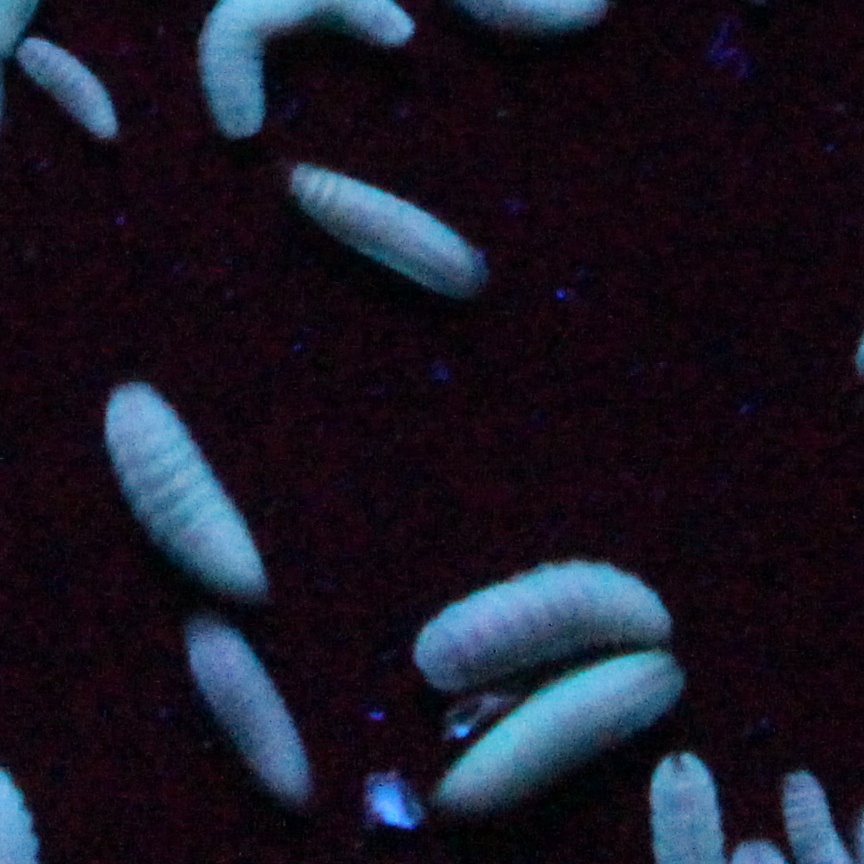larve: (445, 651, 689, 803), (99, 381, 264, 595), (414, 559, 679, 690), (290, 161, 478, 295), (183, 617, 303, 796), (14, 41, 116, 136)
